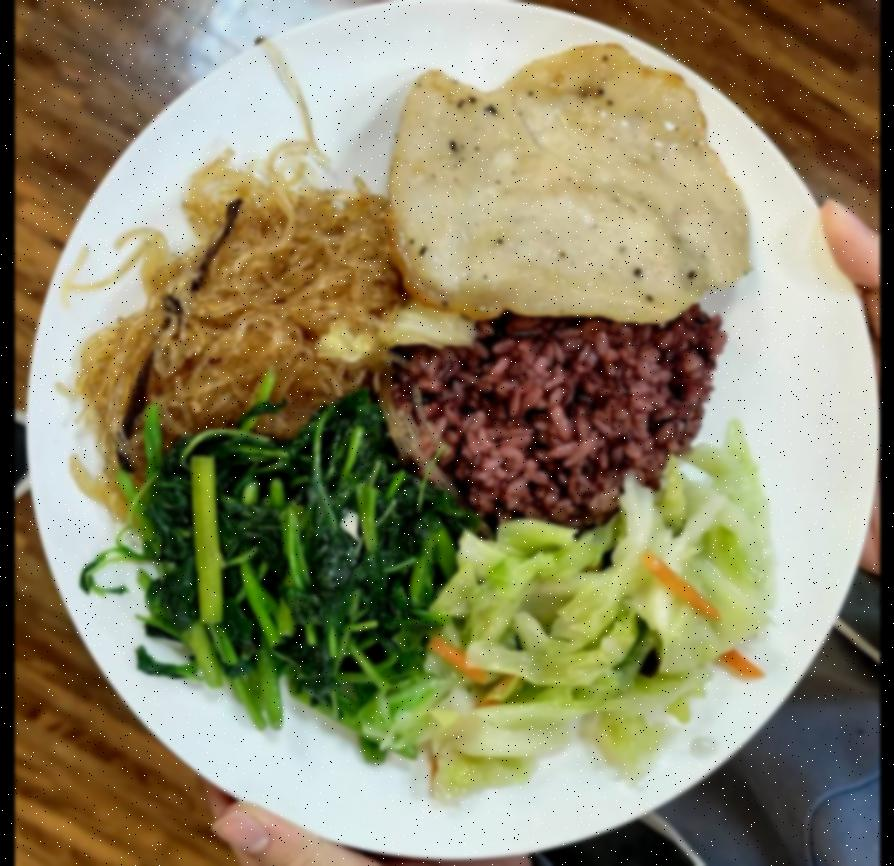big fried chicken leg: (14, 0, 870, 860)
braised fish: (382, 304, 730, 526)
braised fish fillet: (426, 448, 788, 799), (136, 422, 464, 732), (79, 163, 397, 470)
braised pork: (382, 39, 766, 324)
